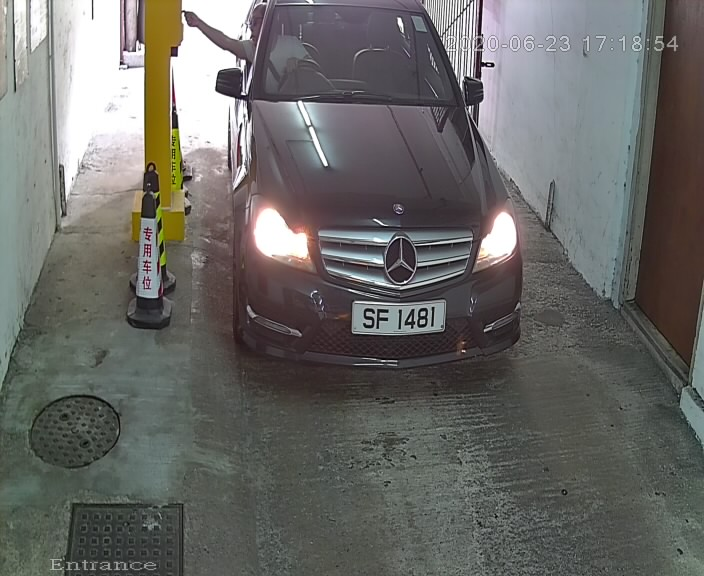privatecar: (202, 1, 534, 395)
